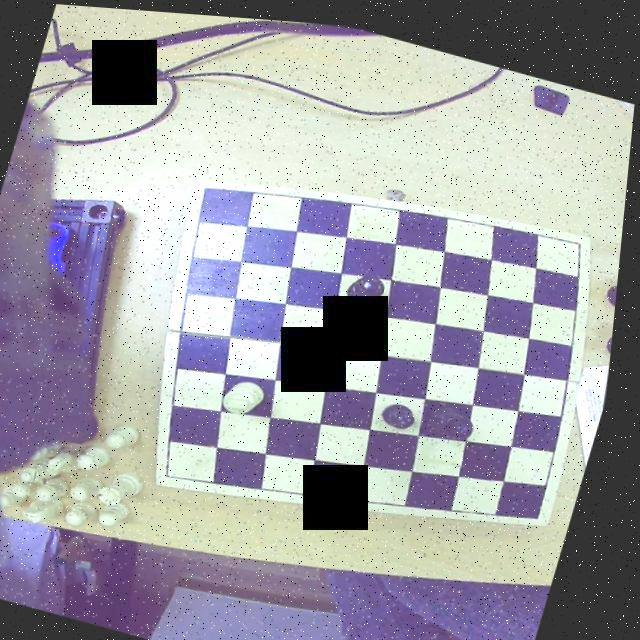chess-table-corners: (196, 173, 228, 204), (162, 455, 193, 484), (528, 495, 562, 520), (570, 224, 599, 252)
